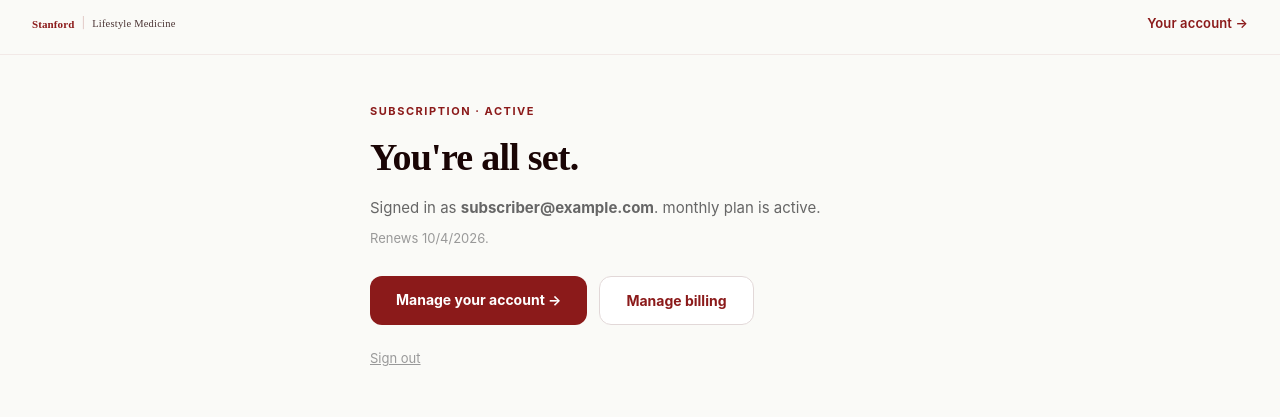
Test case: /subscribe manage billing portal › failure: renders the inline portal error and does not redirect
Click the button "Manage billing": {"x": 676, "y": 301} [599,276,754,325]
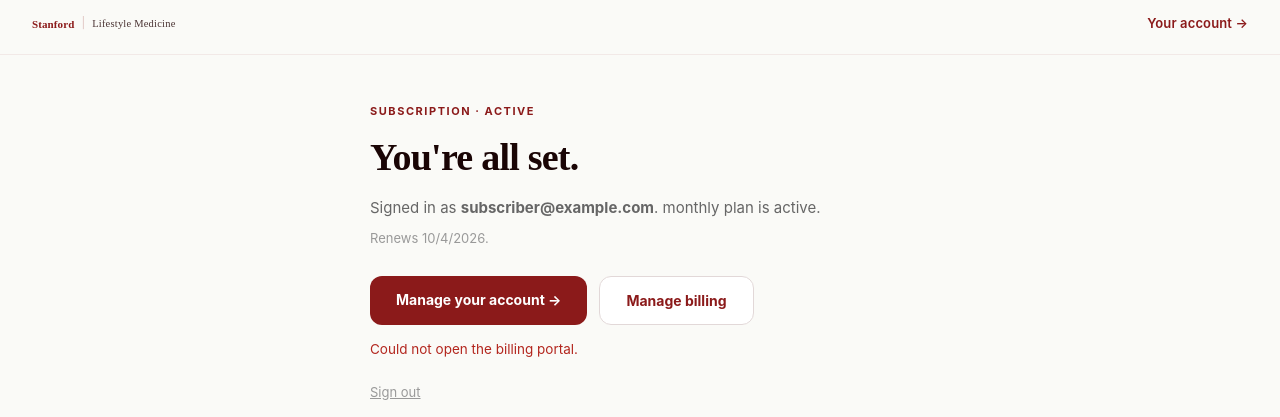
Expected: the text "Could not open the billing portal." is shown, [370,341,578,357]
